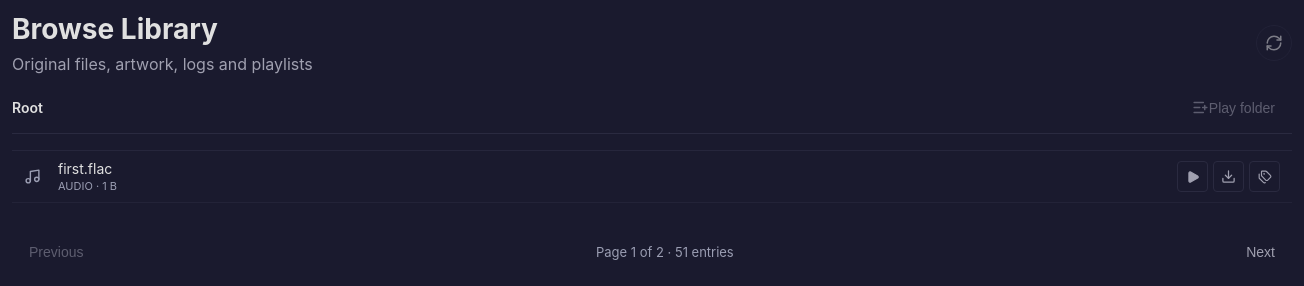
BrowseView › replaces the current page instead of appending results
Click the button "Next" at [1261, 252], box top-left (1229, 235), bottom-right (1292, 269)
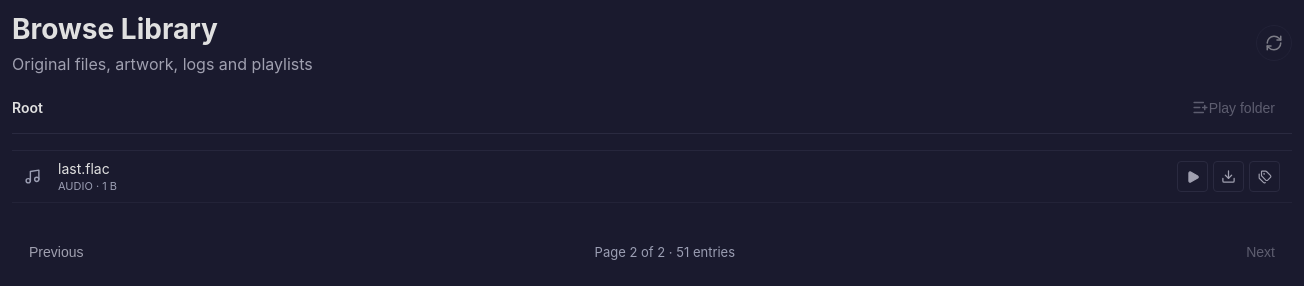
Expected: the text "last.flac" is shown, top-left (58, 160), bottom-right (110, 177)
Expected: the text "first.flac" is gone
